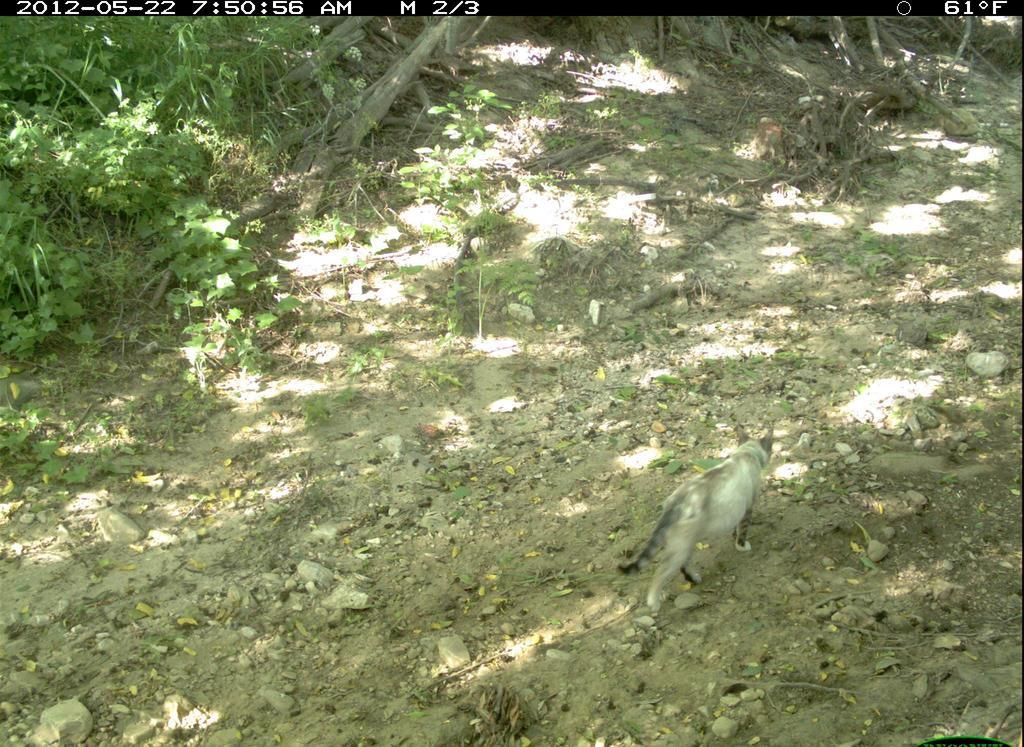cat: (614, 415, 798, 625)
